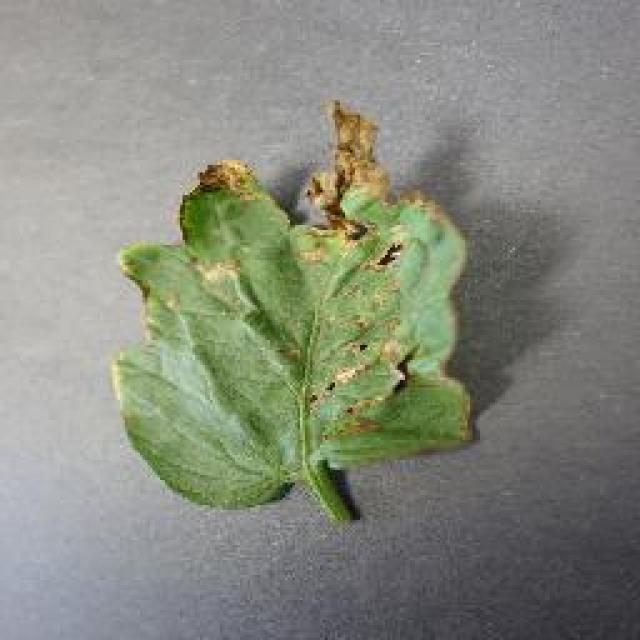Tomato___Bacterial_spot: (111, 102, 481, 530)
